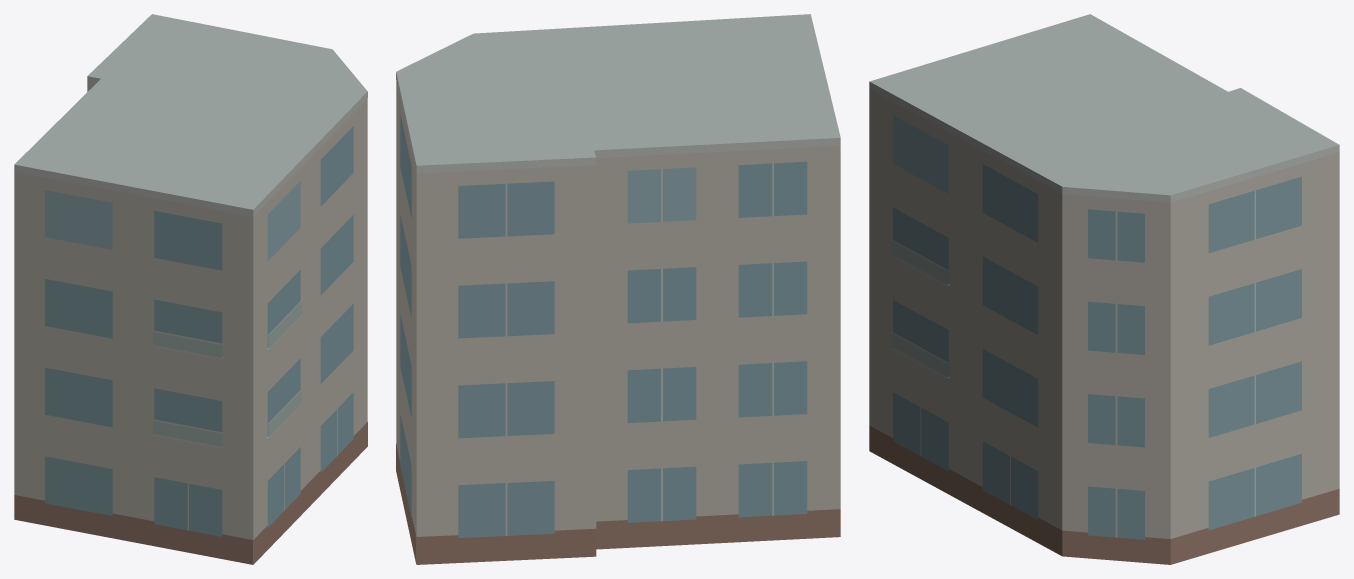
Rendered from survey-upis-32818817.glb.
3 views of the same model, side by side, from view 1: azimuth 30°, elevation 25°; view 2: azimuth 150°, elevation 25°; view 3: azimuth 270°, elevation 25° (orthographic). The views are drawn at different scales.
Parts seen in each view (by area): view 1: survey-upis-32818817.tmp; view 2: survey-upis-32818817.tmp; view 3: survey-upis-32818817.tmp.
Part boxes in pixels (bbox=[...]): survey-upis-32818817.tmp: bbox=[14, 14, 367, 564]; survey-upis-32818817.tmp: bbox=[396, 14, 840, 564]; survey-upis-32818817.tmp: bbox=[869, 14, 1339, 564].
Bounding box in the file's own units: 13.16 × 12.5 × 14.43.
